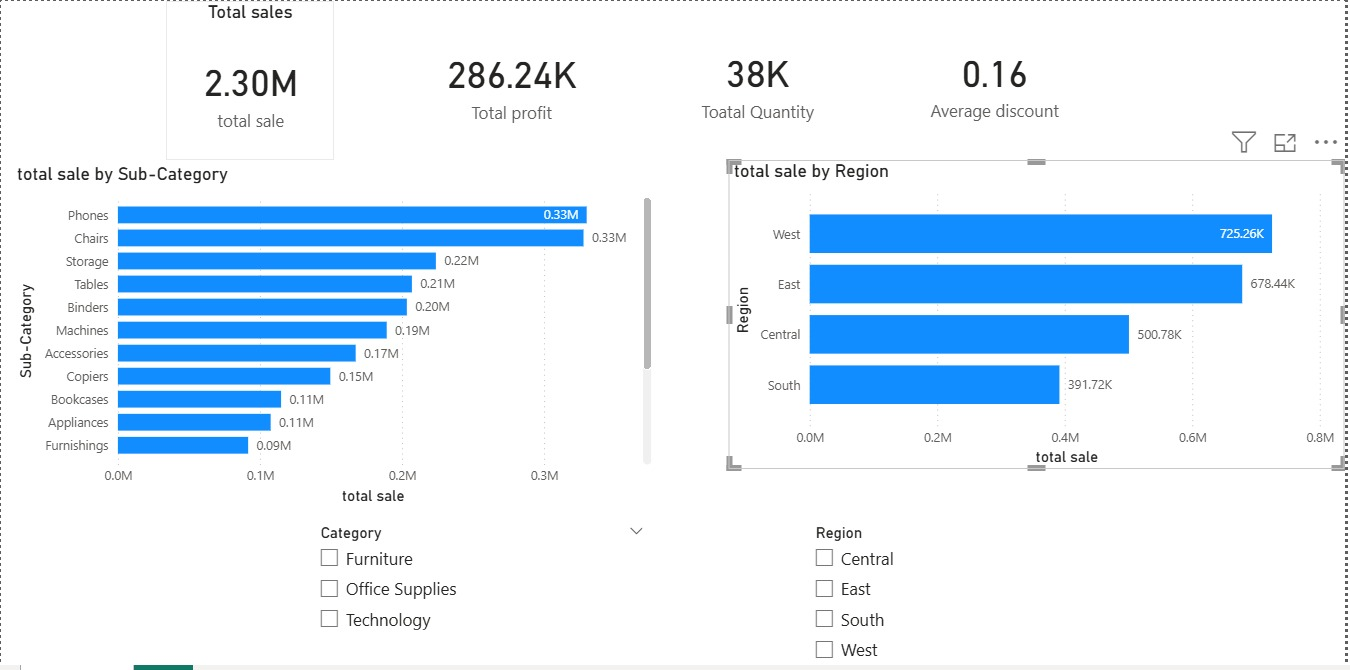

What the dashboard file says about the page in this screenshot:
{"tool":"powerbi","page":{"name":"Page 1","canvas":[1280,720],"ordinal":0},"visuals":[{"type":"card","title":"Total sales","fields":{"Values":["SampleSuperstore.total sale"]},"box":[156.9,0,160.6,151.2],"z":0},{"type":"card","fields":{"Values":["SampleSuperstore.Total profit"]},"box":[406.3,1.9,160.6,153.1],"z":1},{"type":"card","fields":{"Values":["SampleSuperstore.Toatal Quantity"]},"box":[640.6,1.9,160.6,151.2],"z":2},{"type":"card","fields":{"Values":["SampleSuperstore.Average discount"]},"box":[865.5,0,160.6,153.1],"z":3},{"type":"clusteredBarChart","fields":{"Category":["SampleSuperstore.Sub-Category"],"Y":["SampleSuperstore.total sale"]},"box":[9.4,155,614.2,328.8],"z":4},{"type":"clusteredBarChart","fields":{"Category":["SampleSuperstore.Region"],"Y":["SampleSuperstore.total sale"]},"box":[693.5,151.2,585.8,294.8],"z":5},{"type":"slicer","fields":{"Values":["SampleSuperstore.Region"]},"box":[763.5,493.2,332.6,226.8],"z":6},{"type":"slicer","fields":{"Values":["SampleSuperstore.Category"]},"box":[291,493.2,332.6,226.8],"z":7}]}

Visuals, with their boxes on the page's 1280x720 design canvas (x1, y1, x2, y2). These are canvas units, not pixel positions in the 1350x670 screenshot, which may show the page scaled, cropped or inside an application window:
"Total sales" card: 157,0,318,151
card - SampleSuperstore.Total profit: 406,2,567,155
card - SampleSuperstore.Toatal Quantity: 641,2,801,153
card - SampleSuperstore.Average discount: 866,0,1026,153
clusteredBarChart - SampleSuperstore.Sub-Category x SampleSuperstore.total sale: 9,155,624,484
clusteredBarChart - SampleSuperstore.Region x SampleSuperstore.total sale: 694,151,1279,446
slicer - SampleSuperstore.Region: 764,493,1096,720
slicer - SampleSuperstore.Category: 291,493,624,720
